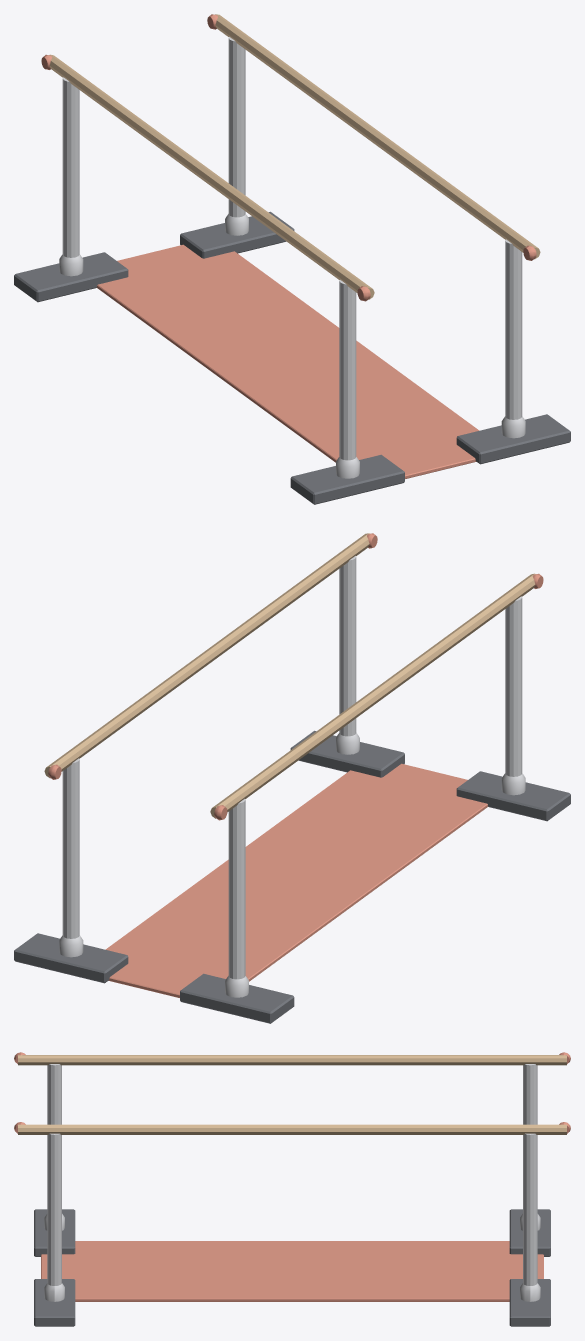
Rendered from care-home-and-day-room-physiotherapy-parallel-bars-c340fe25__35763.glb.
3 views of the same model, one above another, from view 1: azimuth 30°, elevation 25°; view 2: azimuth 150°, elevation 25°; view 3: azimuth 270°, elevation 25° (orthographic). The views are drawn at different scales.
Parts seen in each view (by area): view 1: physiotherapy-parallel-bars; view 2: physiotherapy-parallel-bars; view 3: physiotherapy-parallel-bars.
Part boxes in pixels (x1,y1,x2,y2): physiotherapy-parallel-bars: [14, 14, 570, 504]; physiotherapy-parallel-bars: [14, 533, 570, 1023]; physiotherapy-parallel-bars: [14, 1052, 570, 1326].
Size of the model in its own units: 1.12 by 0.8901 by 2.44.
